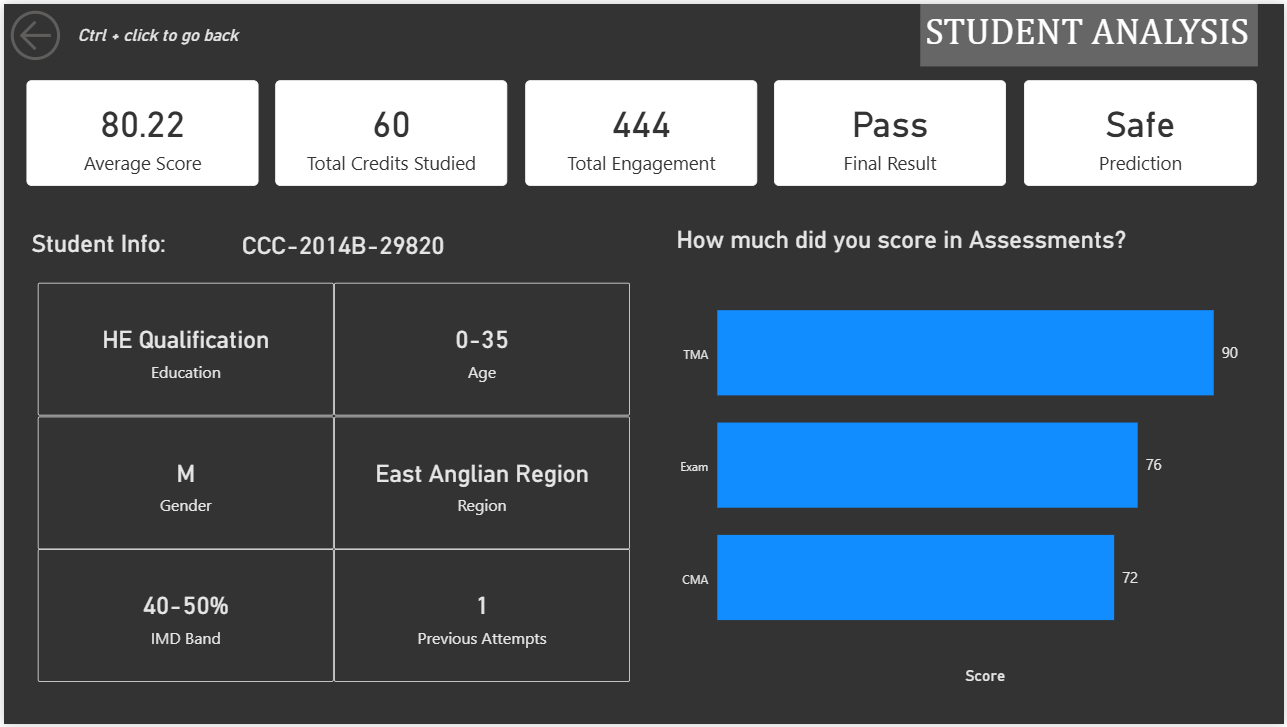

What the dashboard file says about the page in this screenshot:
{"tool":"powerbi","page":{"name":"Student Analysis","canvas":[1280,720],"ordinal":2},"visuals":[{"type":"textbox","box":[916.2,0,337.5,62.5],"z":0},{"type":"card","fields":{"Values":["Avg(public student_score_details.score)"]},"box":[22.9,75.7,232.2,105.7],"z":0,"group":"g2"},{"type":"card","fields":{"Values":["Min(public student_all_details.age_band)"]},"box":[329.5,278.8,295.7,133.2],"z":0,"group":"g1"},{"type":"card","fields":{"Values":["Sum(public student_all_details.studied_credits)"]},"box":[272.2,75.7,232.2,105.7],"z":1000,"group":"g2"},{"type":"barChart","title":"How much did you score in Assessments?","fields":{"Category":["public student_score_details.assessment_type"],"Y":["Avg(public student_score_details.score)"]},"box":[667.1,221.4,587.1,464.3],"z":1000},{"type":"card","fields":{"Values":["Min(public student_all_details.highest_education)"]},"box":[33.8,278.8,295.7,133.2],"z":1000,"group":"g1"},{"type":"actionButton","box":[0,0,67.1,62.9],"z":2000},{"type":"card","fields":{"Values":["Sum(public student_all_details.site_count)"]},"box":[521.5,75.7,232.2,105.7],"z":2000,"group":"g2"},{"type":"card","fields":{"Values":["Min(public student_all_details.gender)"]},"box":[33.8,412,295.7,133.2],"z":2000,"group":"g1"},{"type":"textbox","box":[68.6,15.7,300,31.4],"z":3000},{"type":"card","fields":{"Values":["Min(public student_all_details.final_result)"]},"box":[770.8,75.7,232.2,105.7],"z":3000,"group":"g2"},{"type":"card","fields":{"Values":["Min(public student_all_details.region)"]},"box":[329.5,412,295.7,133.2],"z":3000,"group":"g1"},{"type":"card","fields":{"Values":["Min(public prediction_data.predicted_result)"]},"box":[1020,75.7,232.9,105.7],"z":4000,"group":"g2"},{"type":"textbox","box":[22.5,221.2,157.5,40],"z":4000},{"type":"card","fields":{"Values":["Min(public student_all_details.imd_band)"]},"box":[33.8,545.1,295.7,133.2],"z":4000,"group":"g1"},{"type":"group","id":"g1","title":"Group 2","box":[33.8,278.8,591.2,400],"z":5000},{"type":"card","fields":{"Values":["CountNonNull(public student_all_details.num_of_prev_attempts)"]},"box":[329.5,545.1,295.7,133.2],"z":5000,"group":"g1"},{"type":"group","id":"g2","title":"Group 1","box":[22.9,75.7,1230,105.7],"z":6000},{"type":"card","fields":{"Values":["Min(public student_all_details.virtual_pik)"]},"box":[218.8,221.2,241.2,40],"z":6001}]}

Visuals, with their boxes in screenshot pixels (x1, y1, x2, y2), scaled from the page's 1280x720 canvas onto the 1287x727 screenshot:
textbox: bbox=(921, 0, 1261, 63)
card - Avg(public student_score_details.score): bbox=(23, 76, 256, 183)
card - Min(public student_all_details.age_band): bbox=(331, 282, 629, 416)
card - Sum(public student_all_details.studied_credits): bbox=(274, 76, 507, 183)
"How much did you score in Assessments?" barChart: bbox=(671, 224, 1261, 692)
card - Min(public student_all_details.highest_education): bbox=(34, 282, 331, 416)
actionButton: bbox=(0, 0, 67, 64)
card - Sum(public student_all_details.site_count): bbox=(524, 76, 758, 183)
card - Min(public student_all_details.gender): bbox=(34, 416, 331, 551)
textbox: bbox=(69, 16, 371, 48)
card - Min(public student_all_details.final_result): bbox=(775, 76, 1008, 183)
card - Min(public student_all_details.region): bbox=(331, 416, 629, 551)
card - Min(public prediction_data.predicted_result): bbox=(1026, 76, 1260, 183)
textbox: bbox=(23, 223, 181, 264)
card - Min(public student_all_details.imd_band): bbox=(34, 550, 331, 685)
"Group 2" group: bbox=(34, 282, 628, 685)
card - CountNonNull(public student_all_details.num_of_prev_attempts): bbox=(331, 550, 629, 685)
"Group 1" group: bbox=(23, 76, 1260, 183)
card - Min(public student_all_details.virtual_pik): bbox=(220, 223, 463, 264)
